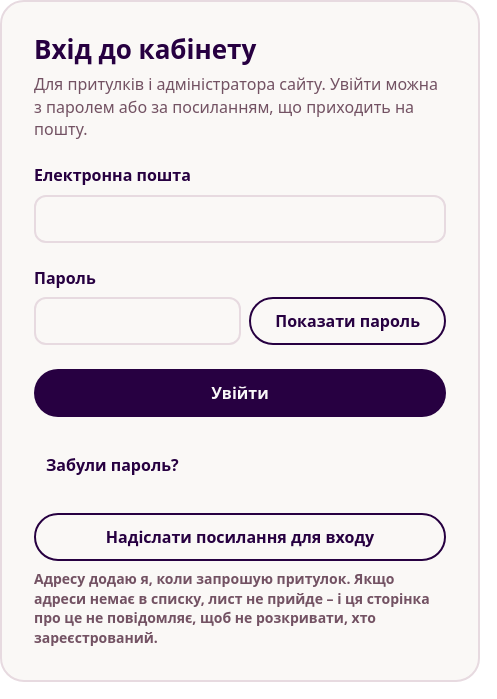
Test case: K1 · the password, first (PW-1) › «Показати пароль» shows it and becomes «Сховати пароль»; the value stays
The width and height of the screenshot is (497, 699).
Type "секрет-123456" into the password field labelled "Пароль". click: (138, 321)
box: [34,297,241,345]
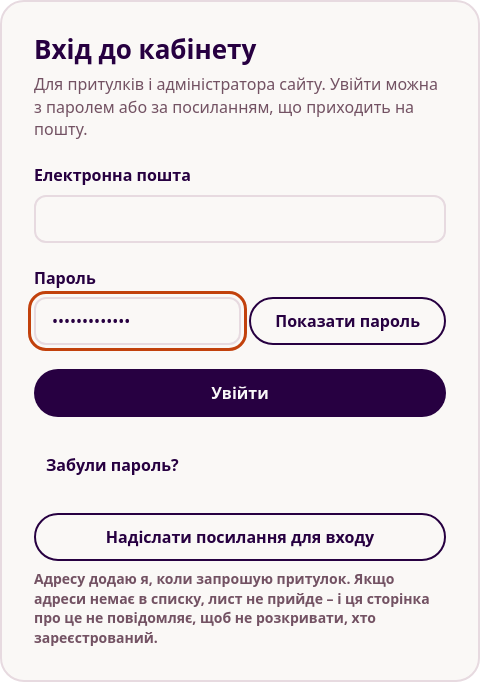
Click the button "Показати пароль". click: (348, 321)
box: [249,297,446,345]
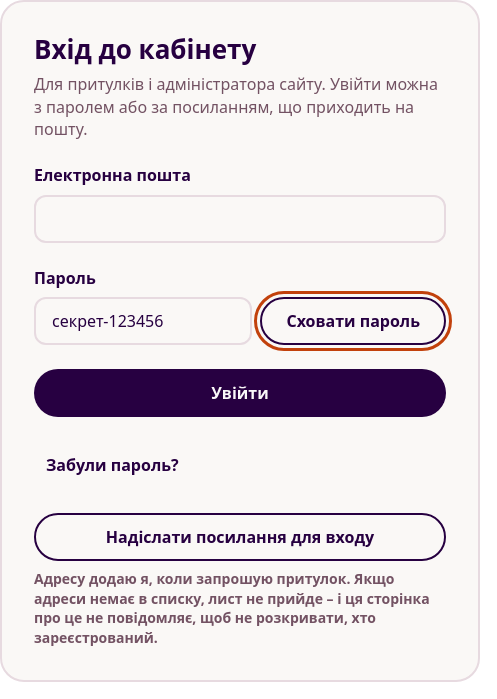
Expected: the field labelled "Пароль" shows its text, [34,297,252,345]
Click the button "Сховати пароль". click: (353, 321)
box: [260,297,446,345]
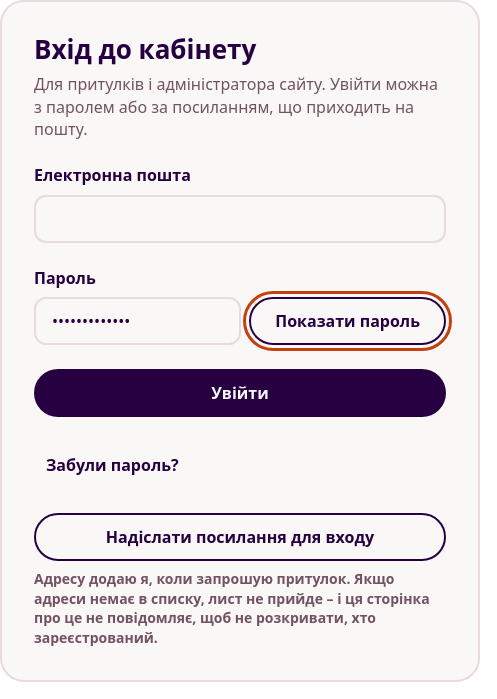
Expected: the password field labelled "Пароль" hides its text, [34,297,241,345]
